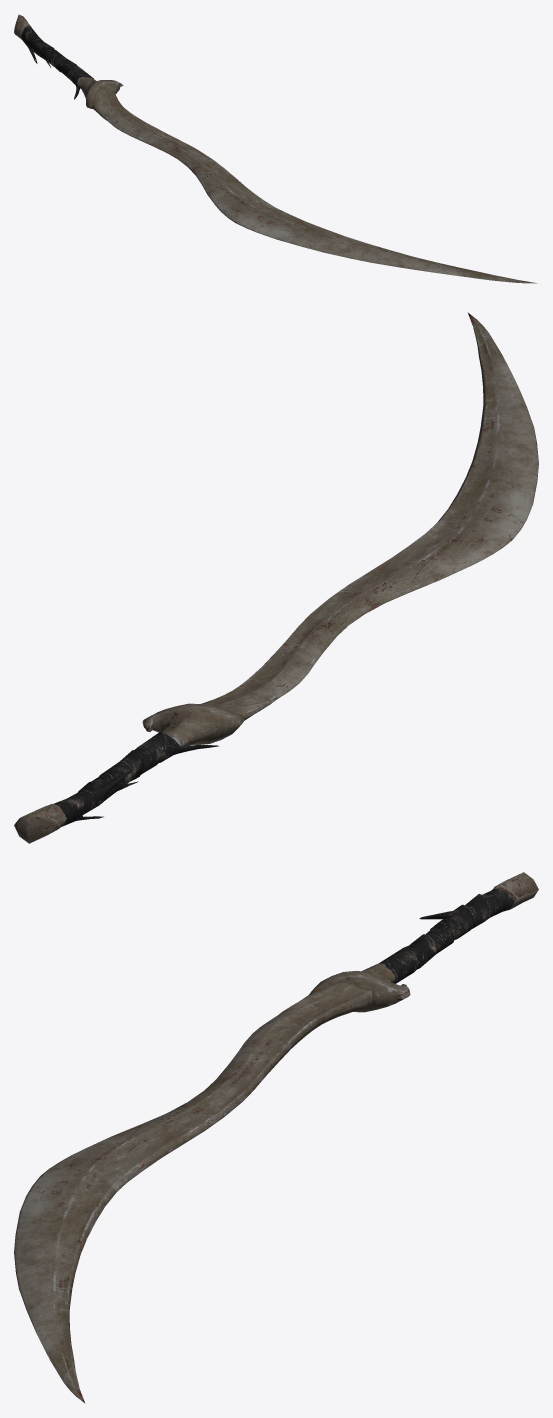
Rendered from bloodhoundsfang.fbx.
The picture shows the model from 3 angles, top to bottom: view 1: azimuth 30°, elevation 25°; view 2: azimuth 150°, elevation 25°; view 3: azimuth 330°, elevation 25°; orthographic projection. The views are drawn at different scales.
Parts seen in each view (by area): view 1: WP_A_0453; view 2: WP_A_0453; view 3: WP_A_0453.
Part boxes in pixels (x1,y1,x2,y2): WP_A_0453: (14, 14, 536, 283); WP_A_0453: (14, 312, 538, 843); WP_A_0453: (14, 872, 538, 1403).
Bounding box in the file's own units: 45.08 × 6.44 × 187.
1 material, 1 textured.
